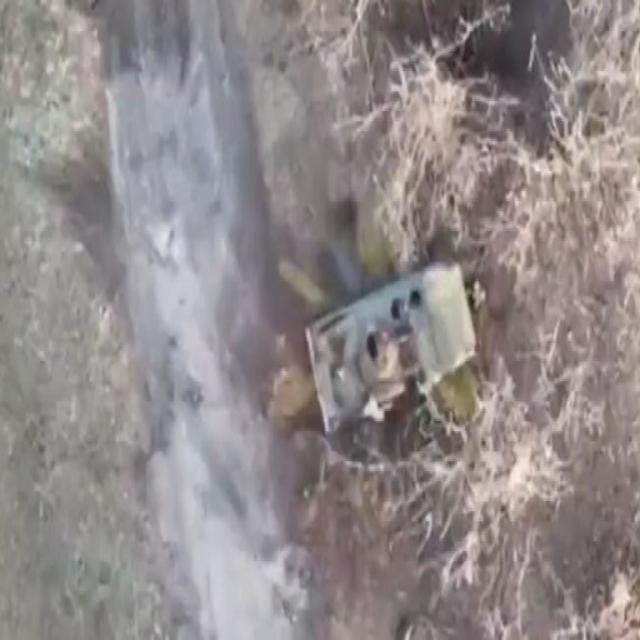APC-IFV: (295, 260, 480, 427)
